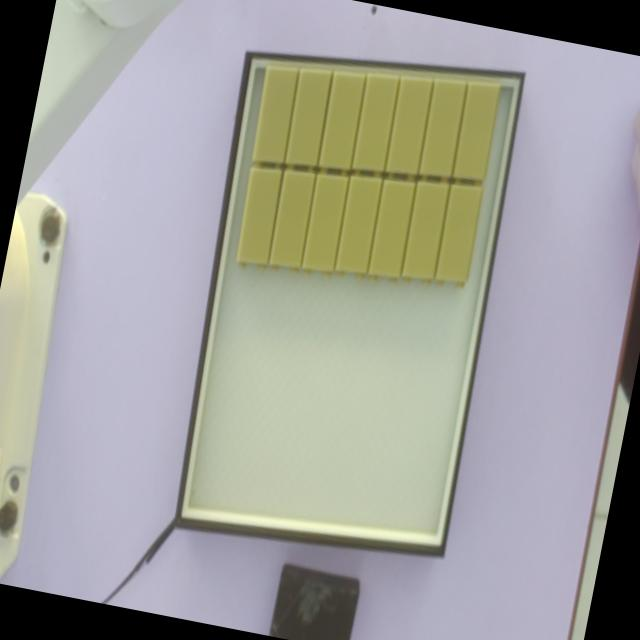bateria: (453, 81, 502, 185), (352, 73, 401, 176), (420, 77, 468, 181), (402, 180, 450, 284), (318, 72, 366, 176), (285, 67, 333, 171), (251, 65, 299, 169), (300, 174, 348, 278), (267, 169, 315, 273), (234, 165, 282, 269), (386, 76, 434, 179), (436, 184, 484, 287), (368, 180, 416, 283), (334, 177, 382, 280)
mesa: (173, 52, 525, 558)
